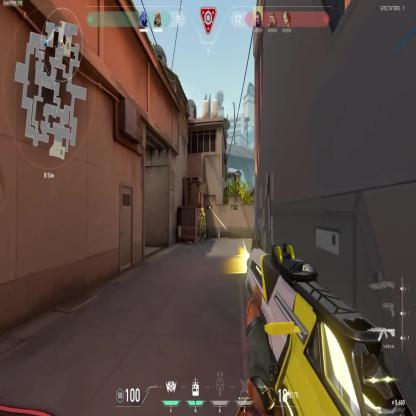enemy: (198, 206, 207, 243)
enemy_head: (201, 207, 204, 213)
